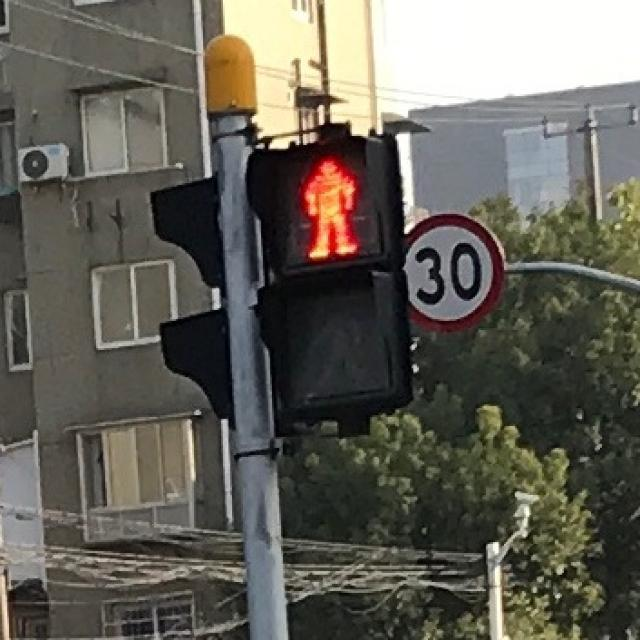red-crossing: (266, 145, 382, 270)
